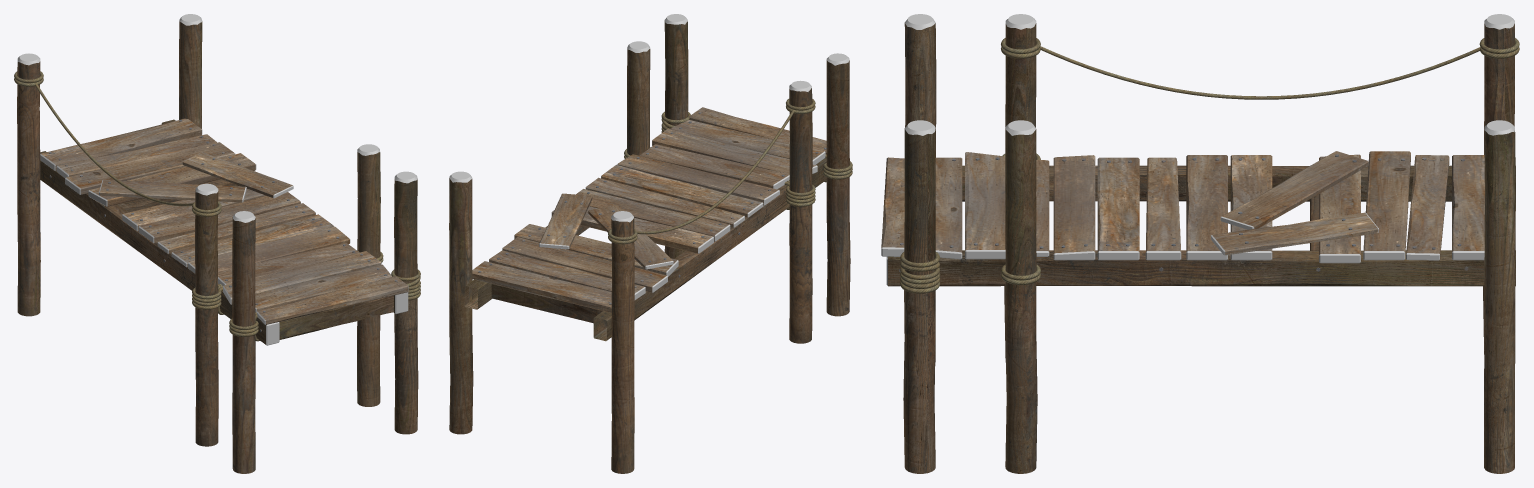
File: SM_KB3D_ENC_BldgSmWatermill_A_Dock.fbx
3 renders of one model, left to right at view 1: azimuth 30°, elevation 25°; view 2: azimuth 150°, elevation 25°; view 3: azimuth 270°, elevation 25°, orthographic. The views are drawn at different scales.
Parts seen in each view (by area): view 1: KB3D_ENC_BldgSmWatermill_A_Dock; view 2: KB3D_ENC_BldgSmWatermill_A_Dock; view 3: KB3D_ENC_BldgSmWatermill_A_Dock.
Part boxes in pixels (bbox=[...]): KB3D_ENC_BldgSmWatermill_A_Dock: bbox=[14, 14, 420, 473]; KB3D_ENC_BldgSmWatermill_A_Dock: bbox=[449, 14, 852, 473]; KB3D_ENC_BldgSmWatermill_A_Dock: bbox=[881, 14, 1519, 473].
Bounding box in the file's own units: 141 × 183 × 310.
